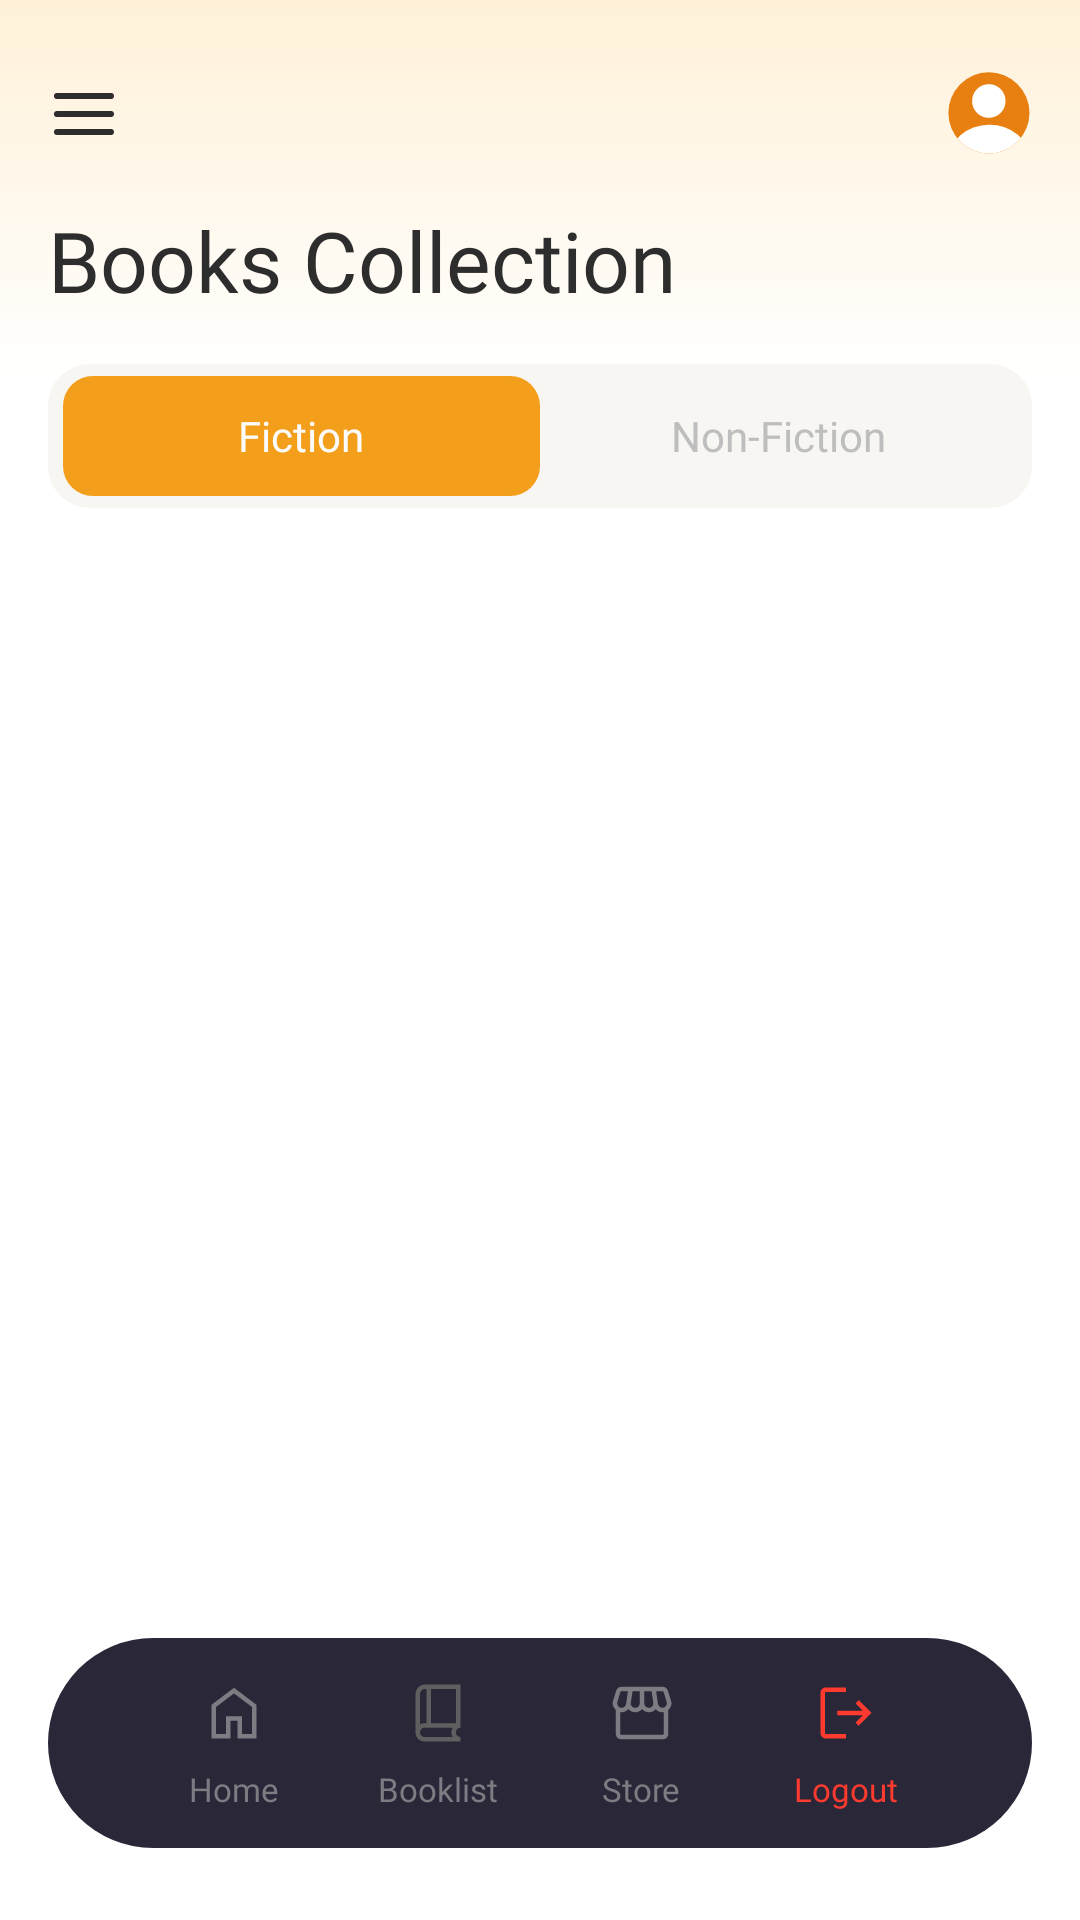

Where icons sit on this 1080 x 1920 app screen, as bbox=[x1, y1, x2, y2]:
hamburg: bbox=[54, 93, 114, 135]
profile: bbox=[948, 72, 1030, 154]
